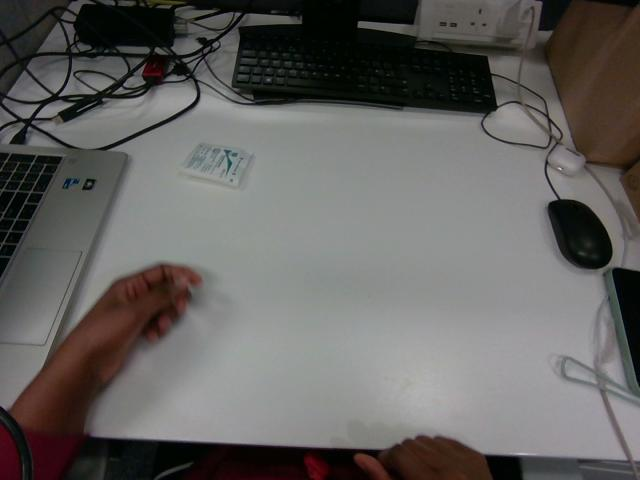gauze: (180, 143, 251, 186)
